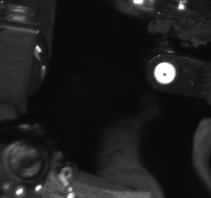fiber: (145, 55, 183, 87)
